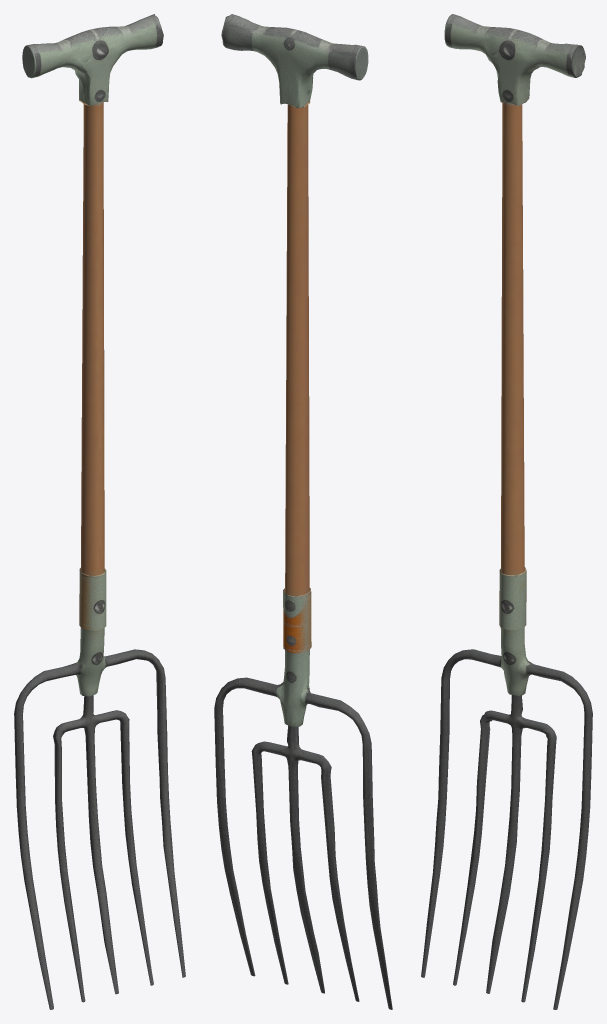
File: pitchfork.glb
The picture shows the model from 3 angles, left to right: view 1: azimuth 30°, elevation 25°; view 2: azimuth 150°, elevation 25°; view 3: azimuth 330°, elevation 25°; orthographic projection. The views are drawn at different scales.
Parts seen in each view (by area): view 1: pitchfork; view 2: pitchfork; view 3: pitchfork.
Boxes of the visible parts, x1=… form: pitchfork: x1=14, y1=14, x2=185, y2=1009; pitchfork: x1=214, y1=14, x2=392, y2=1009; pitchfork: x1=421, y1=14, x2=592, y2=1009.
Bounding box in the file's own units: 0.2084 × 1.25 × 0.0776.
1 material, 1 textured.
